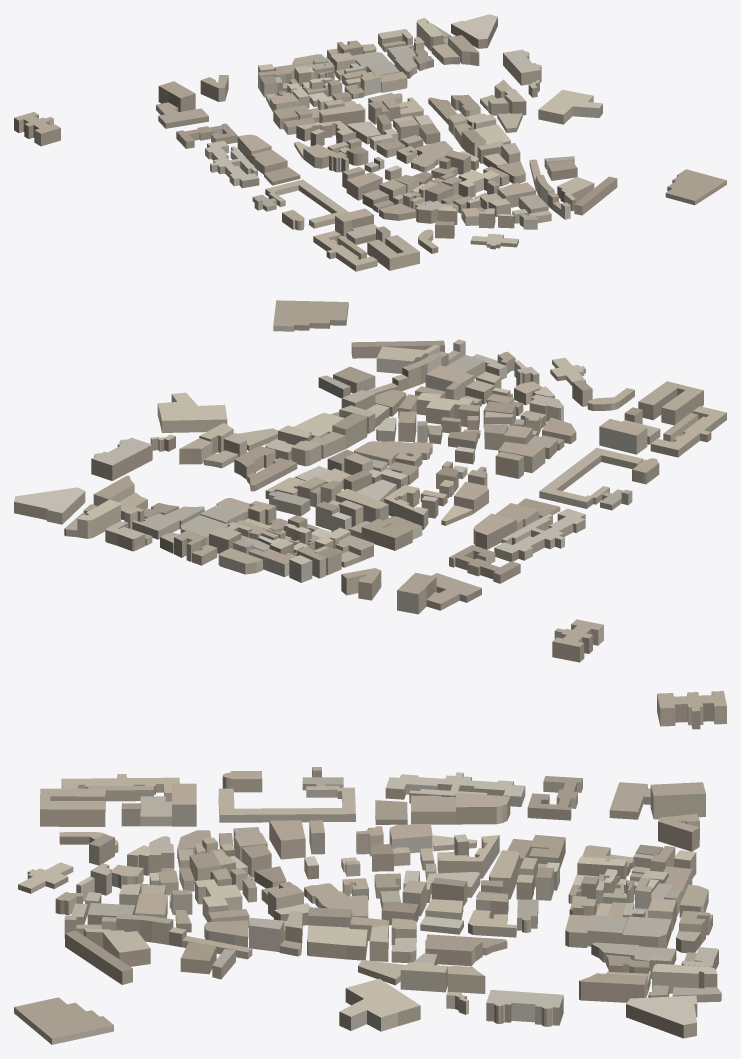
File: mumbai.glb
The picture shows the model from 3 angles, top to bottom: view 1: azimuth 30°, elevation 25°; view 2: azimuth 150°, elevation 25°; view 3: azimuth 270°, elevation 25°; orthographic projection. The views are drawn at different scales.
Visible parts, largest first — view 1: mumbai; view 2: mumbai; view 3: mumbai.
Boxes of the visible parts, x1,y1,x2,y2 form: mumbai: (14,14,726,271); mumbai: (14,300,726,662); mumbai: (14,691,726,1044).
Size of the model in its own units: 916 by 29.7 by 822.
